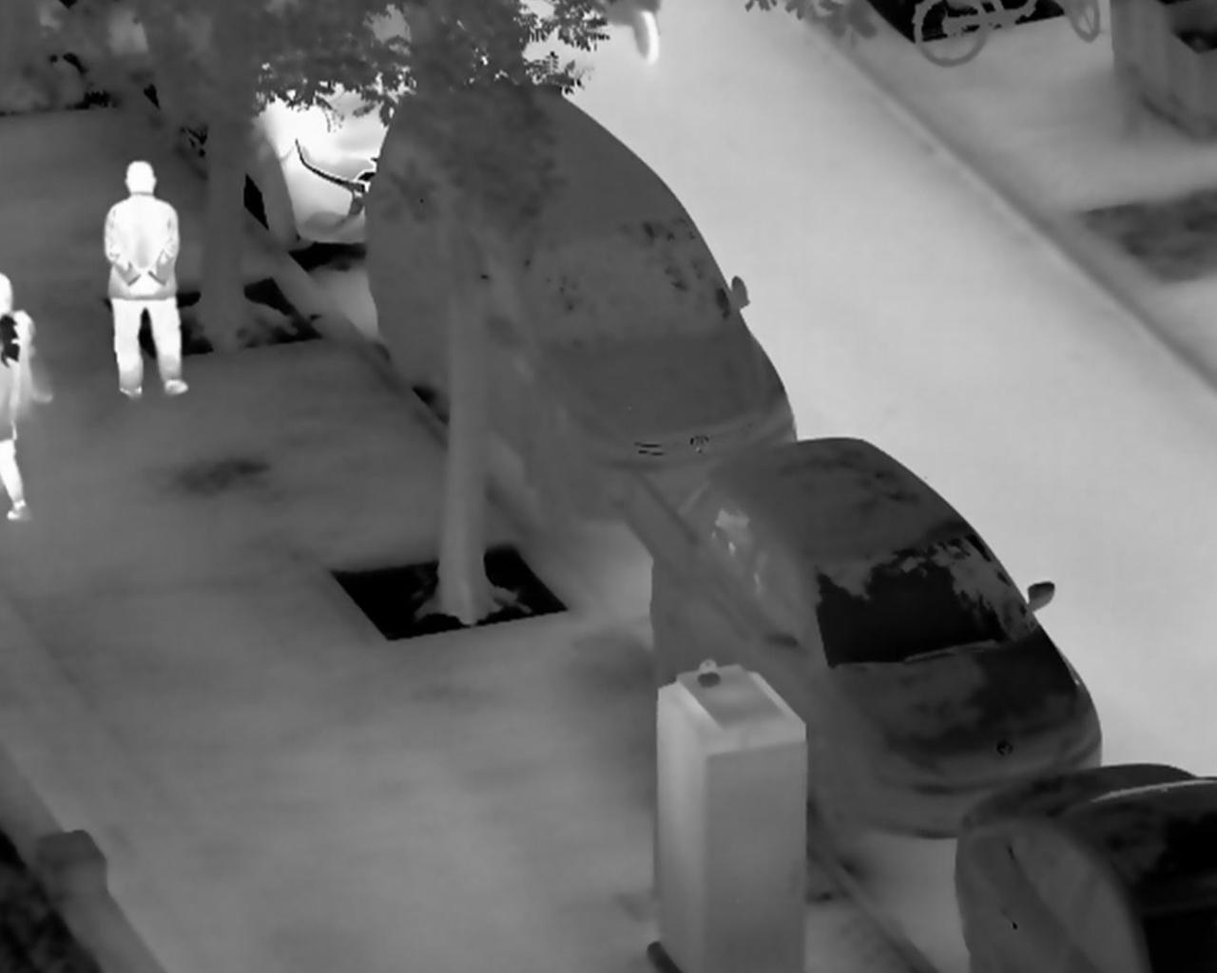person: (103, 158, 190, 401)
